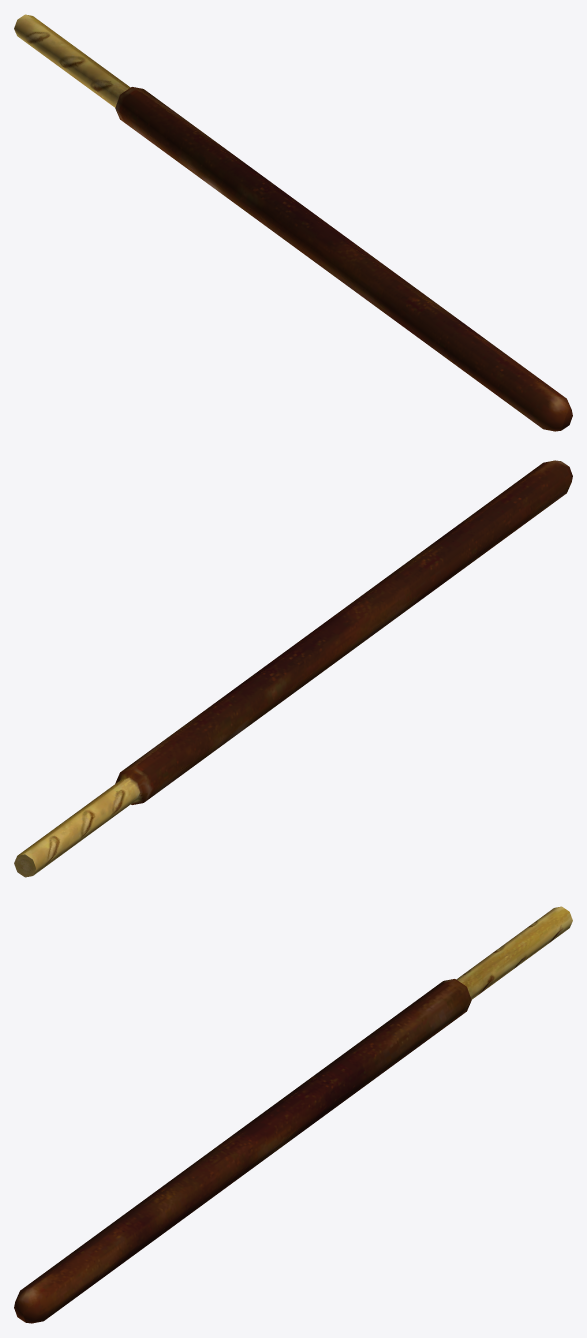
3 renders of one model, top to bottom at view 1: azimuth 30°, elevation 25°; view 2: azimuth 150°, elevation 25°; view 3: azimuth 330°, elevation 25°, orthographic.
Visible parts, largest first — view 1: i003016; view 2: i003016; view 3: i003016.
Boxes of the visible parts, x1=… form: i003016: x1=14, y1=14, x2=572, y2=431; i003016: x1=14, y1=460, x2=572, y2=877; i003016: x1=14, y1=906, x2=572, y2=1323.
Size of the model in its own units: 4.89 by 4.89 by 136.
Materials: 1 (1 with a texture image).
